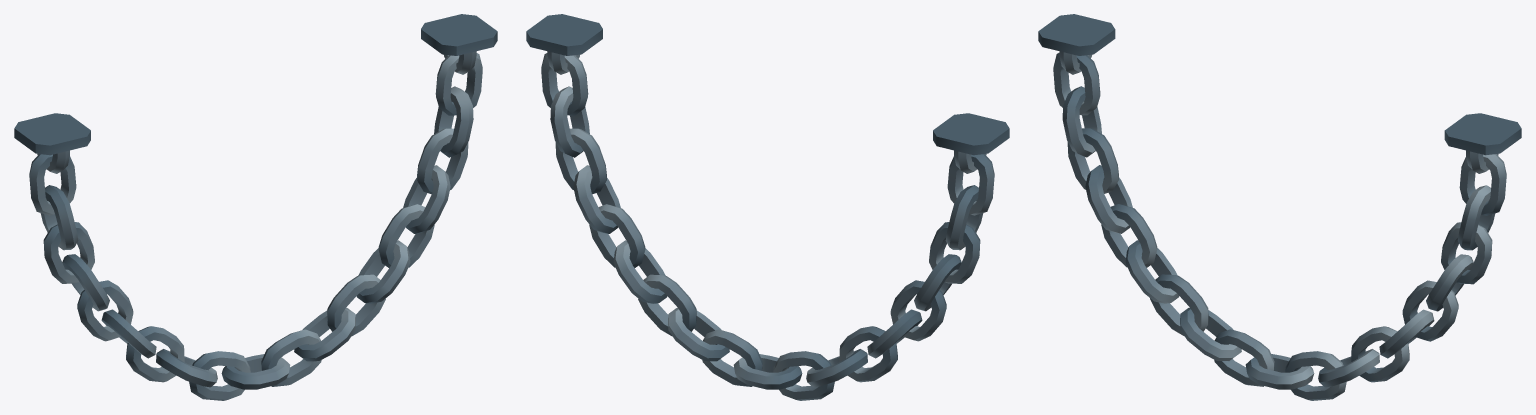
Rendered from chain_hanging_B.fbx.
The picture shows the model from 3 angles, left to right: view 1: azimuth 30°, elevation 25°; view 2: azimuth 150°, elevation 25°; view 3: azimuth 330°, elevation 25°; orthographic projection.
Visible parts, largest first — view 1: chain_hanging_B; view 2: chain_hanging_B; view 3: chain_hanging_B.
Part boxes in pixels (x1,y1,x2,y2): chain_hanging_B: (14,14,497,400); chain_hanging_B: (526,14,1009,400); chain_hanging_B: (1038,14,1521,400).
Bounding box in the file's own units: 250 × 162 × 30.
